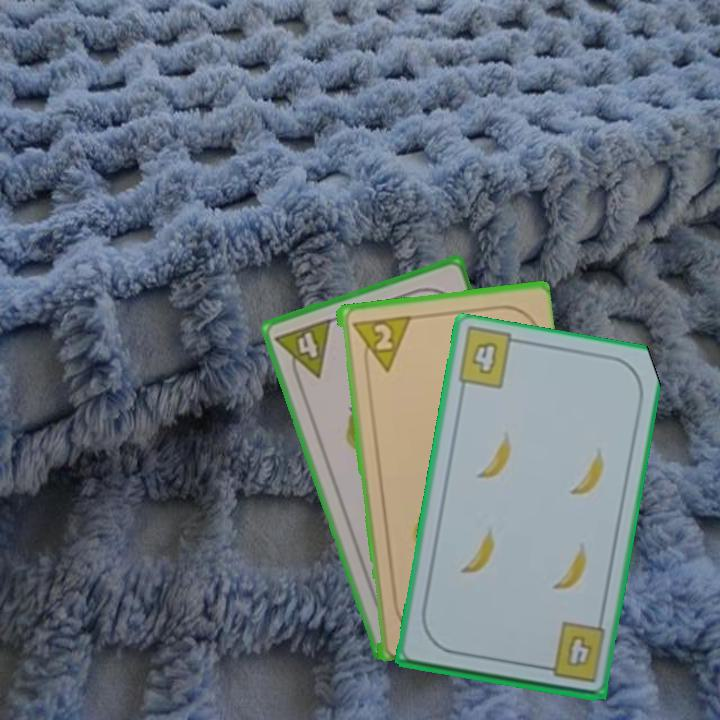2p: (348, 311, 411, 376)
4b: (536, 619, 608, 685), (468, 337, 500, 377)
4p: (271, 314, 335, 387)
